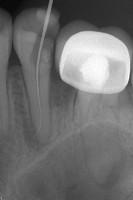Furcation Involvement: (23, 117, 47, 152), (95, 167, 121, 191)
